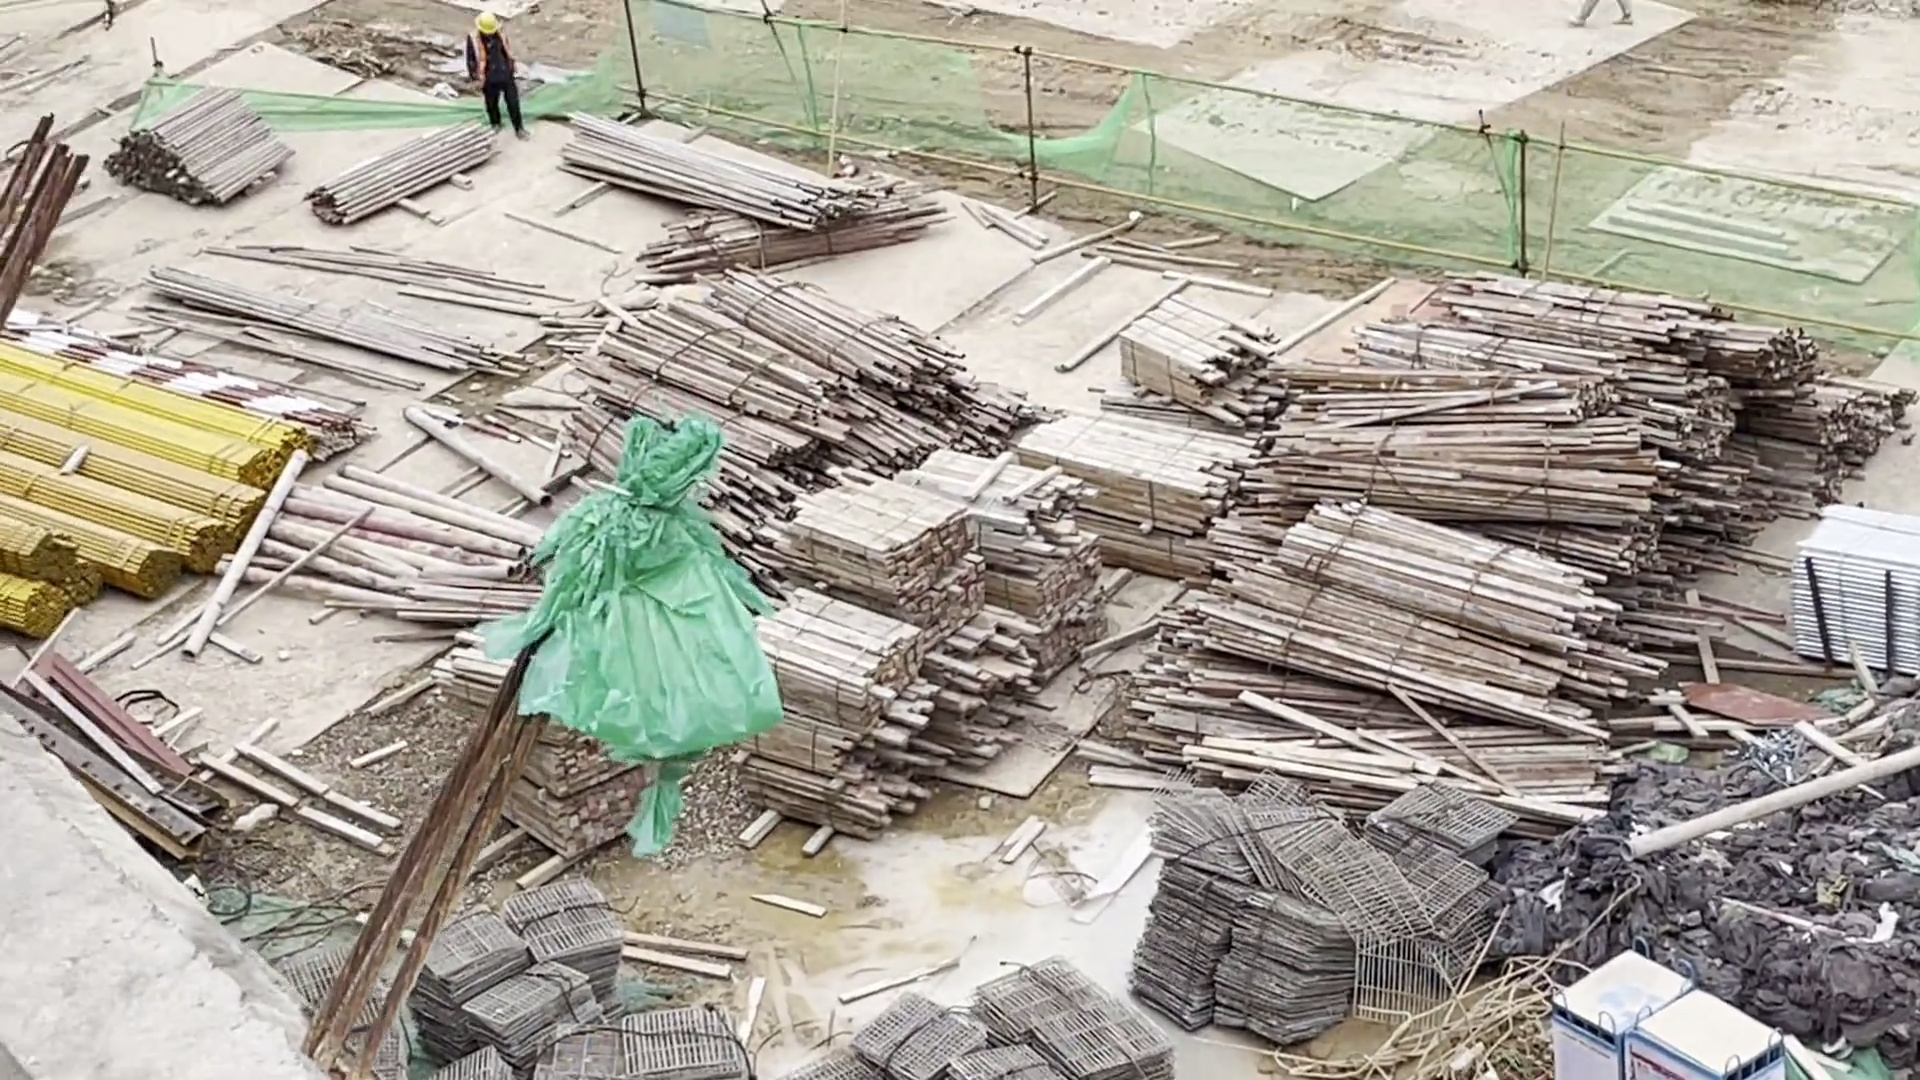helmet: (471, 9, 504, 30)
person: (456, 9, 537, 150)
scaffold: (1786, 498, 1920, 675)
vest: (463, 28, 522, 90)
wood: (1177, 505, 1637, 778), (1377, 271, 1915, 487), (570, 268, 1037, 509), (1258, 350, 1712, 527), (910, 449, 1129, 769), (751, 590, 936, 837), (1033, 409, 1248, 598), (817, 468, 988, 638)
